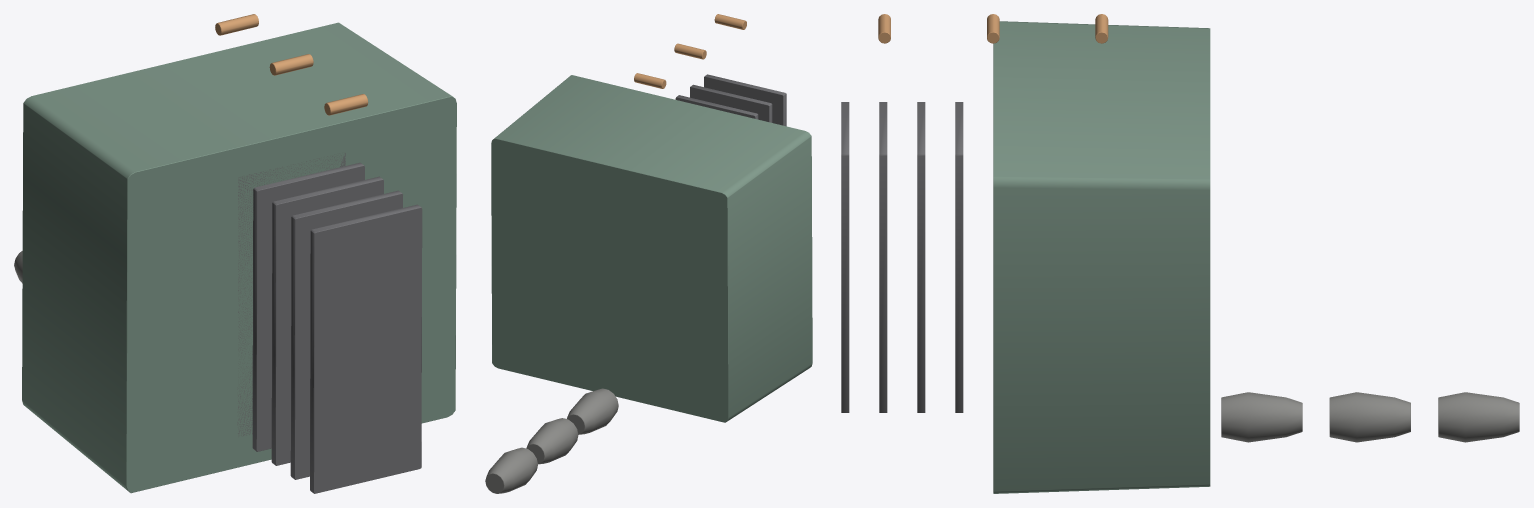
The model's file is LV_transformer.fbx.
3 renders of one model, left to right at view 1: azimuth 30°, elevation 25°; view 2: azimuth 150°, elevation 25°; view 3: azimuth 270°, elevation 25°, orthographic. The views are drawn at different scales.
Visible parts, largest first — view 1: LV_transformer; view 2: LV_transformer; view 3: LV_transformer.
Part boxes in pixels (x1,y1,x2,y2): LV_transformer: [14, 14, 456, 493]; LV_transformer: [485, 14, 812, 493]; LV_transformer: [841, 14, 1519, 493].
Size of the model in its own units: 1.4 by 1.7 by 2.5.
